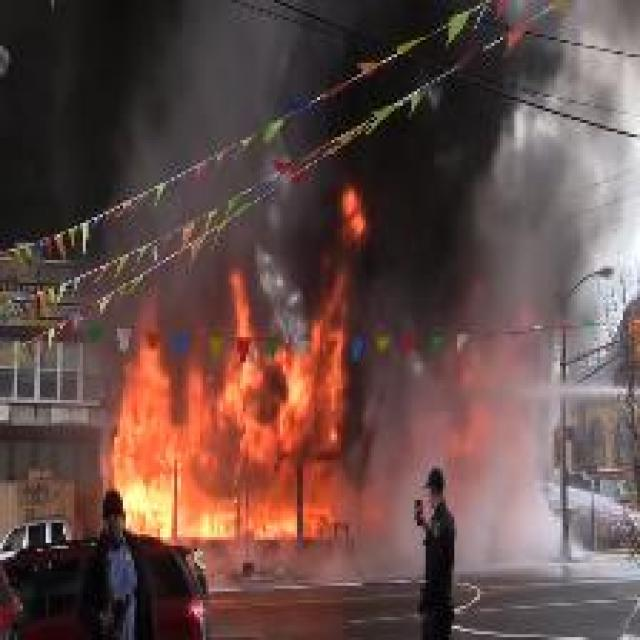fire: (116, 191, 384, 540)
